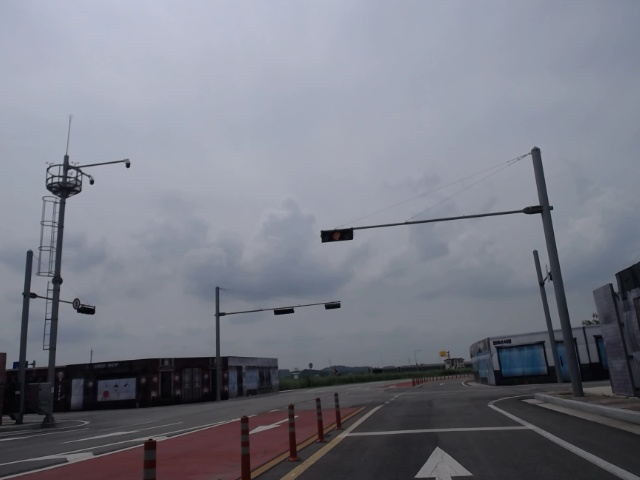orange_3: (321, 229, 352, 244)
